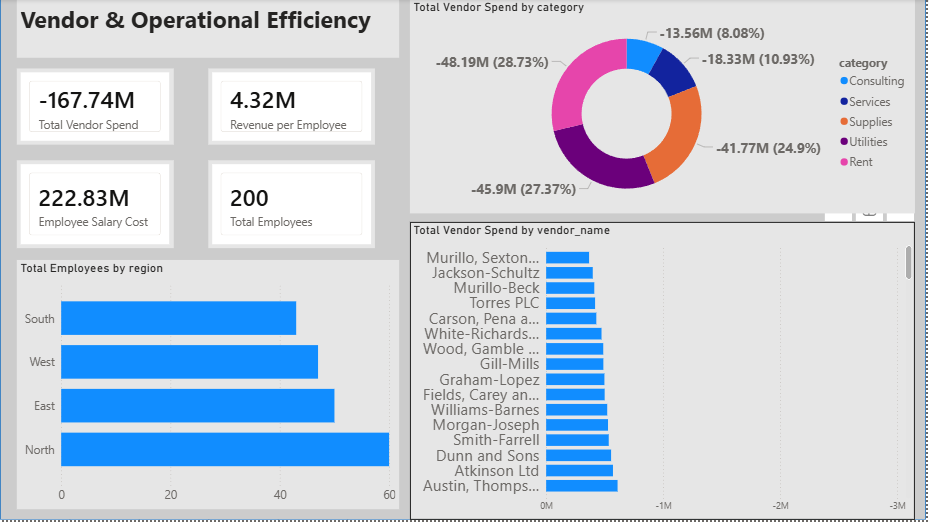

What the dashboard file says about the page in this screenshot:
{"tool":"powerbi","page":{"name":"Page 4","canvas":[1280,720],"ordinal":3},"visuals":[{"type":"shape","box":[0,0,1280,720],"z":0},{"type":"cardVisual","fields":{"Data":["clean_transactions.Vendor Spend"]},"box":[23.3,96.7,216.7,105],"z":1000},{"type":"barChart","fields":{"Category":["public vendor.vendor_name"],"Y":["clean_transactions.Vendor Spend"]},"box":[566.7,308.3,698.3,411.7],"z":2000},{"type":"donutChart","fields":{"Y":["clean_transactions.Vendor Spend"],"Category":["public vendor.category"]},"box":[566.7,0,698.3,296.7],"z":3000},{"type":"cardVisual","fields":{"Data":["clean_transactions.Total Employees"]},"box":[288.3,223.3,230,121.7],"z":4000},{"type":"cardVisual","fields":{"Data":["public headcount.Total Salary Cost"]},"box":[23.3,223.3,216.7,121.7],"z":5000},{"type":"cardVisual","fields":{"Data":["clean_transactions.Revenue per Employee"]},"box":[288.3,96.7,230,105],"z":6000},{"type":"clusteredBarChart","fields":{"Category":["public headcount.region"],"Y":["clean_transactions.Total Employees"]},"box":[23.3,360,528.3,345],"z":7000},{"type":"textbox","box":[23.3,0,528.3,81.7],"z":8000}]}

Visuals, with their boxes in screenshot pixels (x1, y1, x2, y2), scaled from the page's 1280x720 canvas onto the 929x523 screenshot:
shape: <bbox>0, 0, 928, 522</bbox>
cardVisual - clean_transactions.Vendor Spend: <bbox>17, 70, 174, 147</bbox>
barChart - public vendor.vendor_name x clean_transactions.Vendor Spend: <bbox>411, 224, 918, 522</bbox>
donutChart - clean_transactions.Vendor Spend x public vendor.category: <bbox>411, 0, 918, 216</bbox>
cardVisual - clean_transactions.Total Employees: <bbox>209, 162, 376, 251</bbox>
cardVisual - public headcount.Total Salary Cost: <bbox>17, 162, 174, 251</bbox>
cardVisual - clean_transactions.Revenue per Employee: <bbox>209, 70, 376, 147</bbox>
clusteredBarChart - public headcount.region x clean_transactions.Total Employees: <bbox>17, 262, 400, 512</bbox>
textbox: <bbox>17, 0, 400, 59</bbox>
